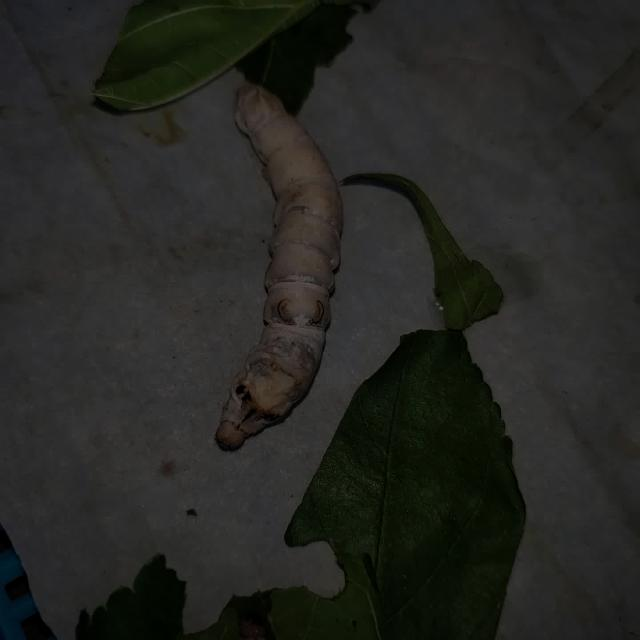Grasserie: (212, 79, 346, 453)
